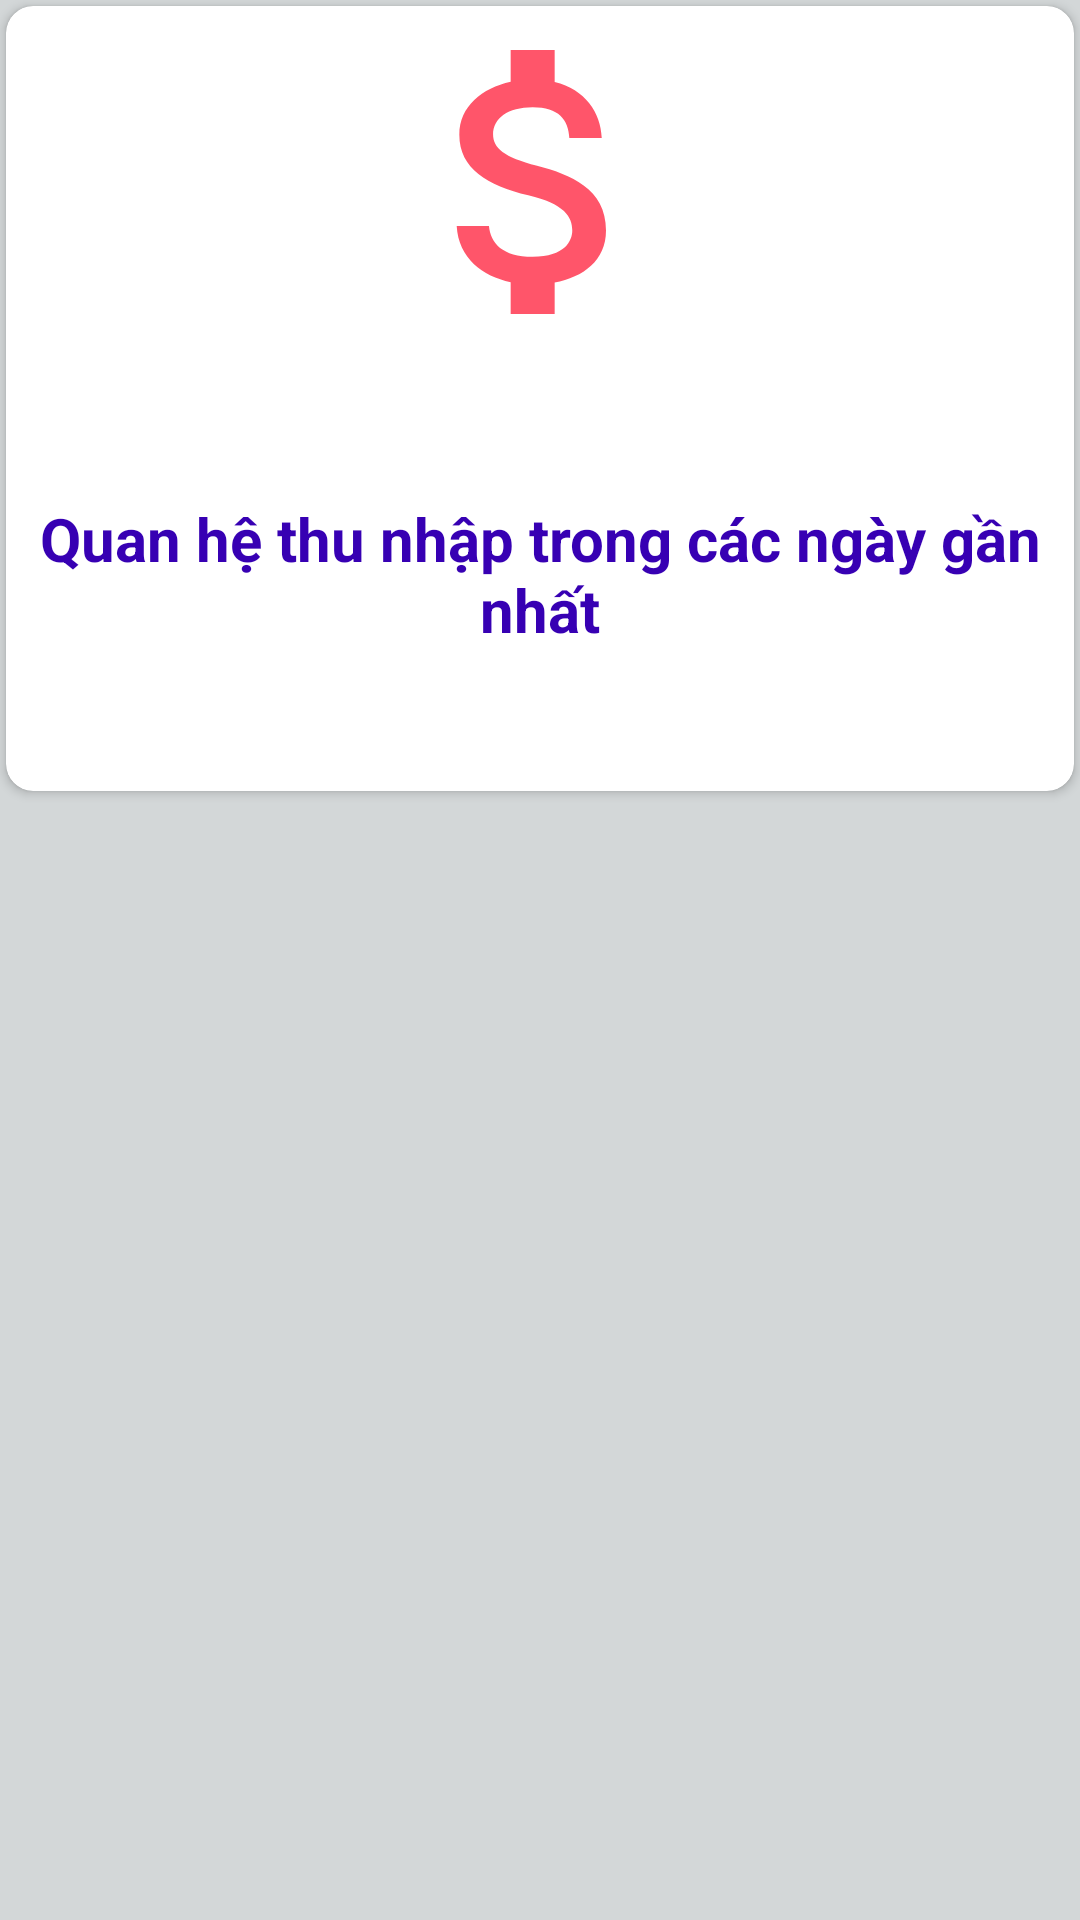

Icons on this 1080px×1920px Android screen, each with its box as box=[x1, y1, x2, y2]:
income: box=[456, 50, 606, 314]
